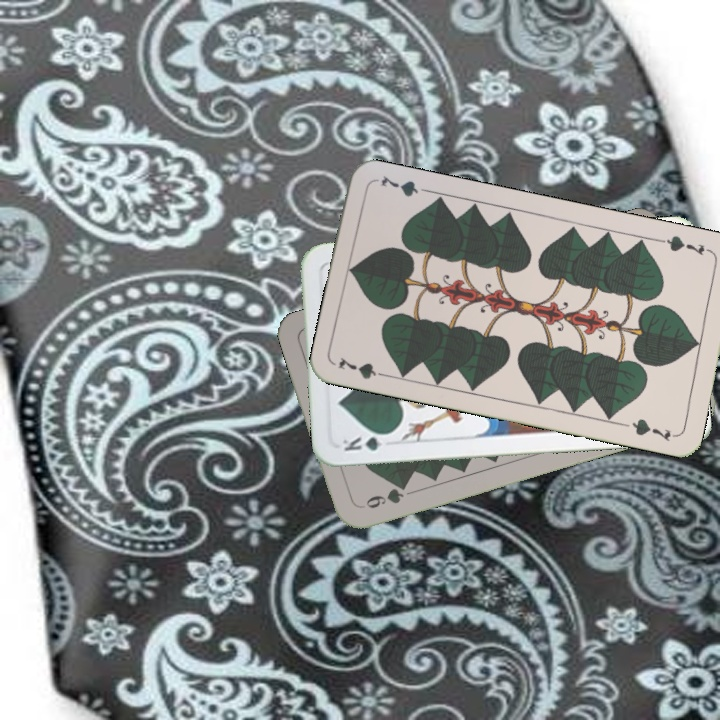G7: (334, 353, 392, 382), (656, 231, 715, 258)
G9: (355, 479, 410, 512)
GK: (338, 429, 395, 454)
